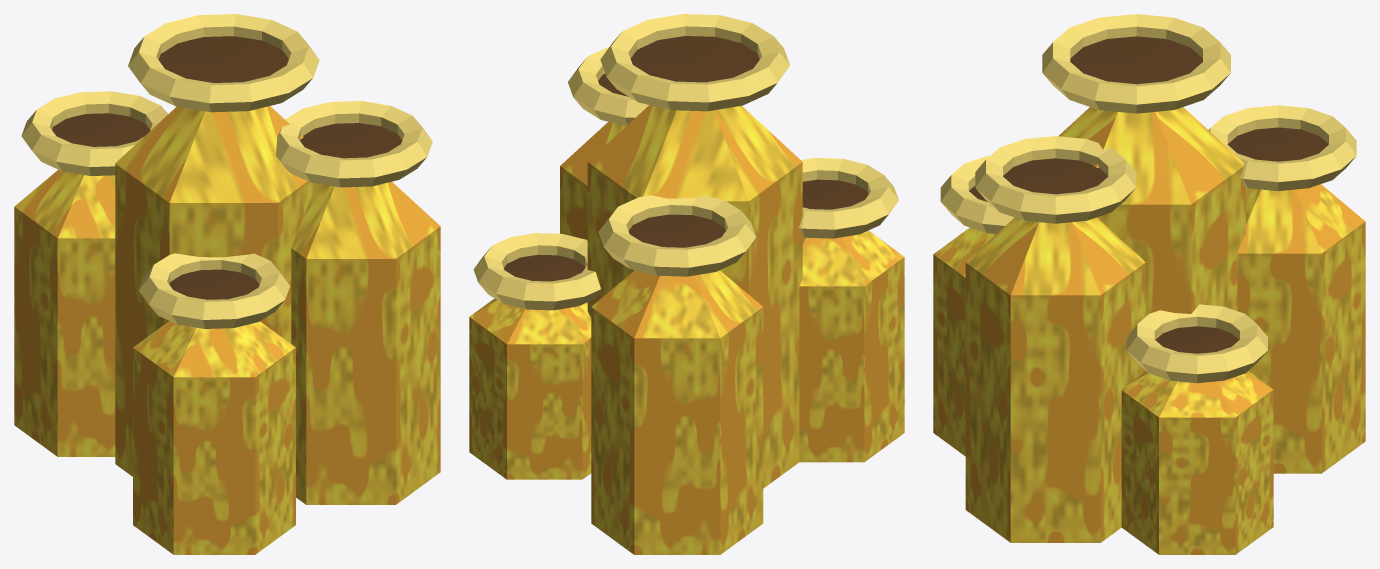
File: TubeSponge.glb
The picture shows the model from 3 angles, left to right: view 1: azimuth 30°, elevation 25°; view 2: azimuth 150°, elevation 25°; view 3: azimuth 270°, elevation 25°; orthographic projection.
Visible parts, largest first — view 1: TubeSponge; view 2: TubeSponge; view 3: TubeSponge.
Boxes of the visible parts, bbox=[...] form: TubeSponge: bbox=[14, 14, 440, 554]; TubeSponge: bbox=[469, 14, 904, 554]; TubeSponge: bbox=[933, 14, 1365, 554].
Bounding box in the file's own units: 1.84 × 2.27 × 2.14.
1 material, 1 textured.
